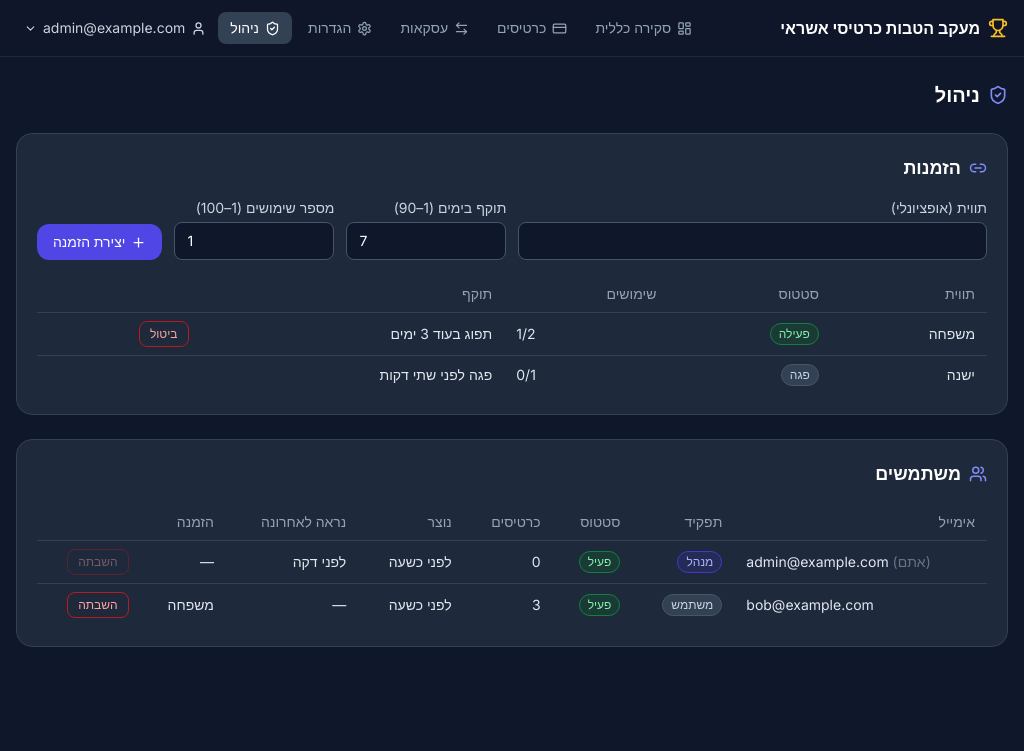
Test: admin page › drops the link when navigating away and back
The image size is (1024, 751).
Expected: the text "פעילה" is shown, [770,323,819,345]
Click the button "יצירת הזמנה": click(100, 242) [37,224,162,260]
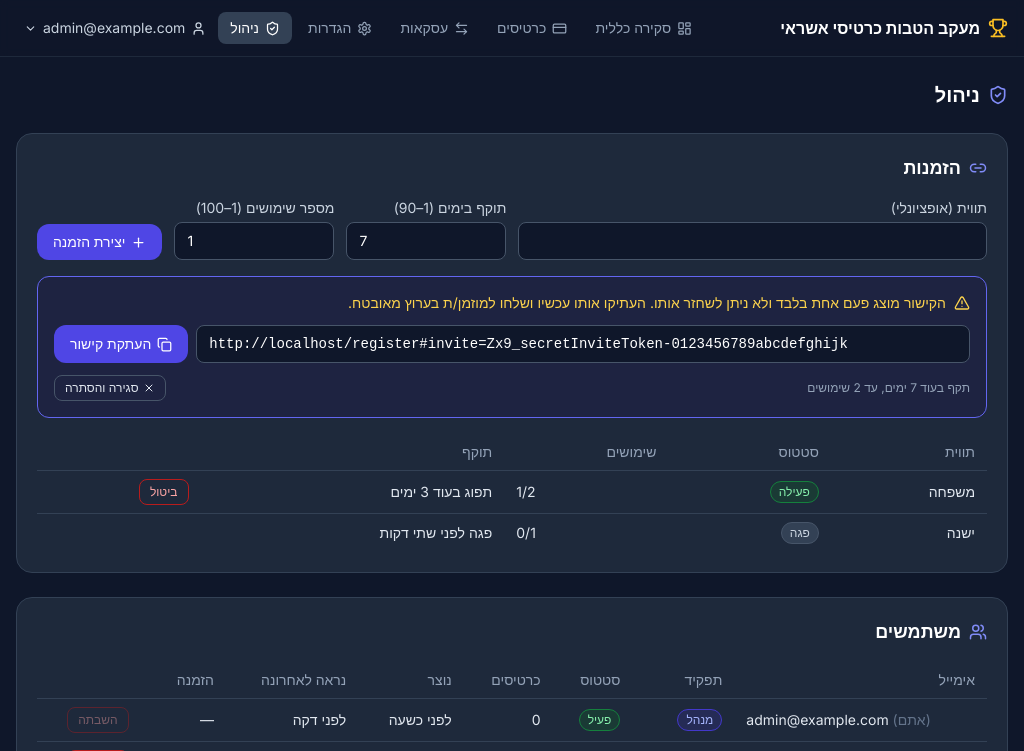
Expected: the element named "קישור הזמנה חדש" is shown, [37,276,987,418]
Click the link "הגדרות": click(340, 28) [308,19,372,36]
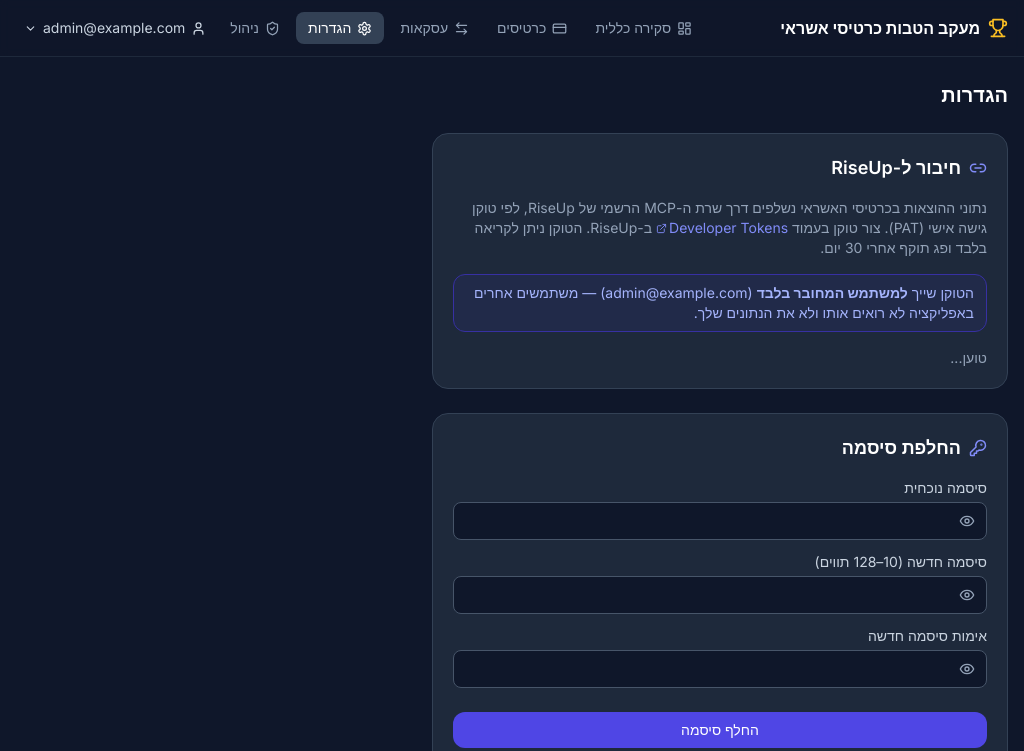
Expected: the heading "הגדרות" is shown, [941,83,1008,107]
Click the link "ניהול": click(255, 28) [230,19,280,36]
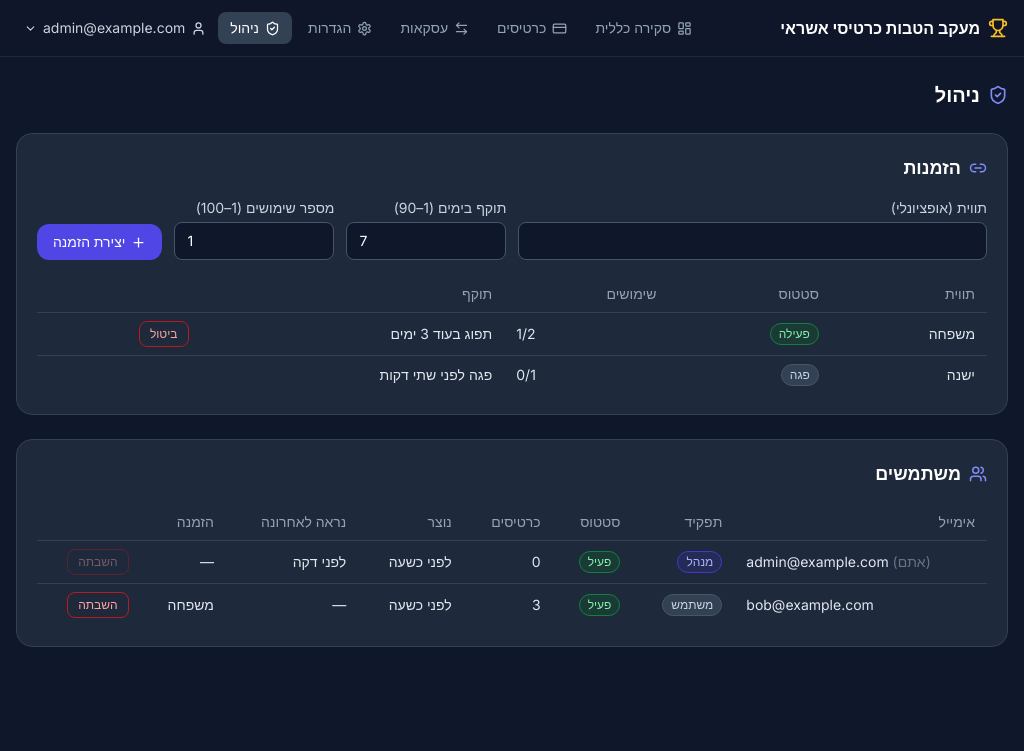
Expected: the text "Zx9_secretInviteToken-0123456789abcdefghijk" is not shown
Expected: the text "פעילה" is shown, [770,323,819,345]
